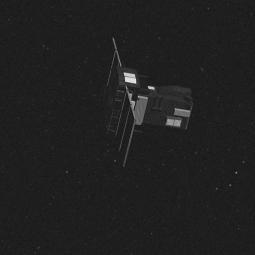soho: (88, 31, 191, 155)
